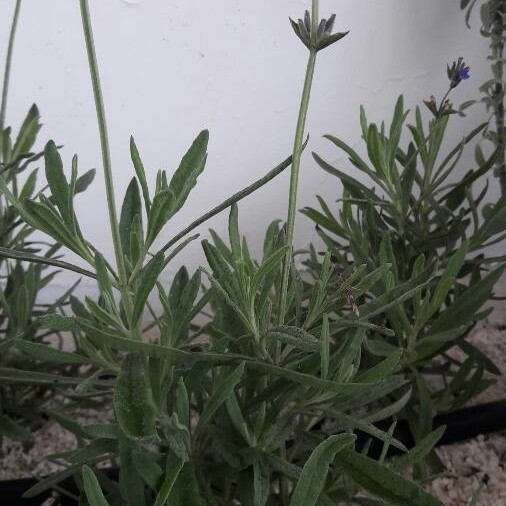obstacle: (27, 154, 455, 476)
